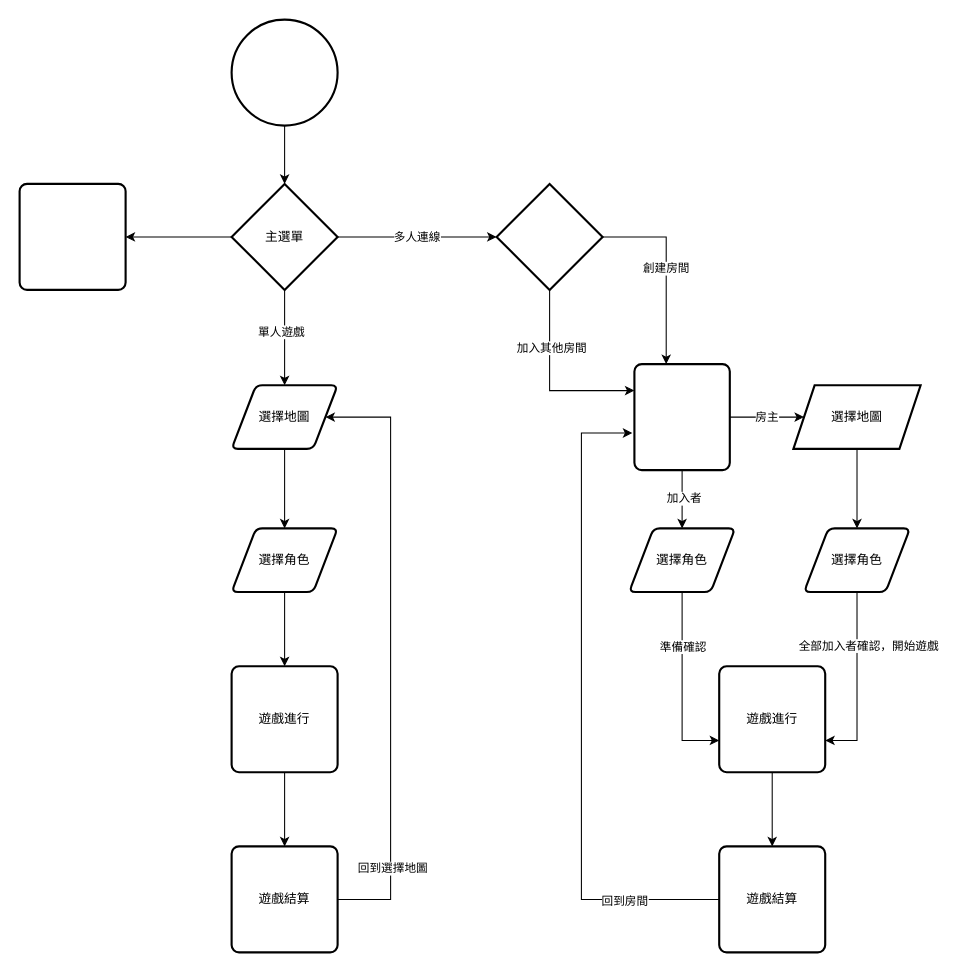
Some shapes in this 956 by 971 pixel diagram are drawn without their labels. Each missing label, with the box of its shape:
房間創建: (633, 363, 730, 471)
教學模式: (18, 182, 126, 290)
程式開始: (230, 18, 338, 126)
連線選單: (495, 182, 603, 290)
